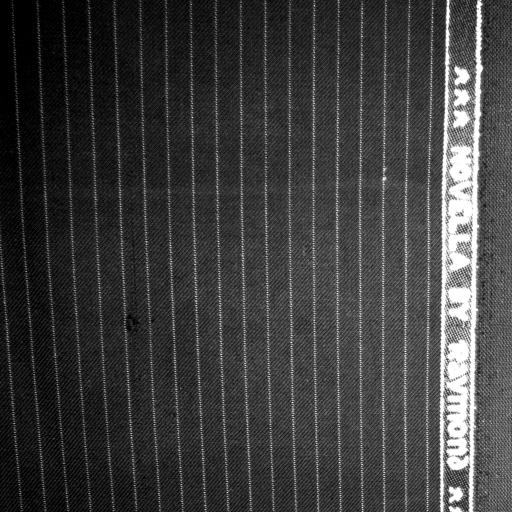fabric_hole: (121, 310, 147, 340)
